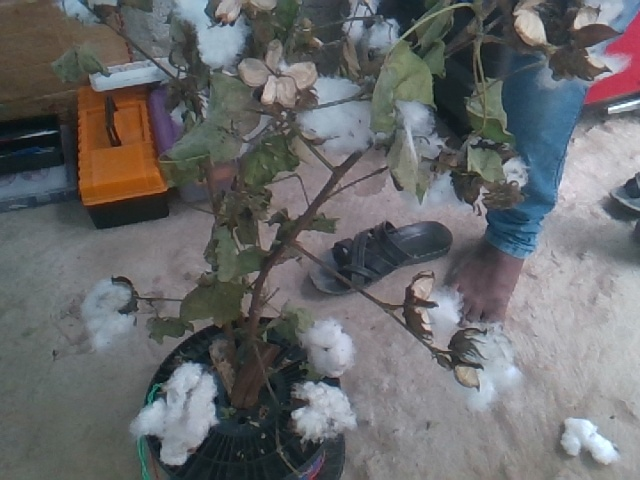cotton: (140, 361, 217, 464), (309, 74, 373, 147), (82, 272, 134, 348), (297, 383, 357, 438), (303, 322, 352, 374)
